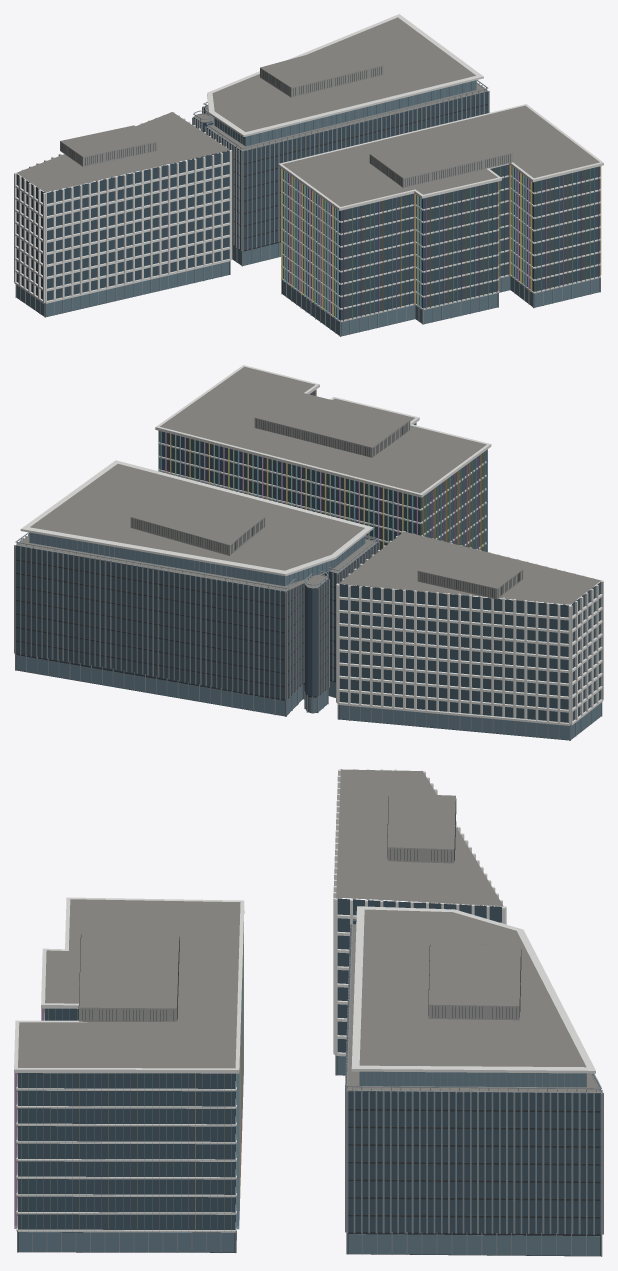
The model's file is kingdom_street_offices.glb.
3 renders of one model, top to bottom at view 1: azimuth 30°, elevation 25°; view 2: azimuth 150°, elevation 25°; view 3: azimuth 270°, elevation 25°, orthographic. The views are drawn at different scales.
Bounding box in the file's own units: 152 × 47.68 × 121.
